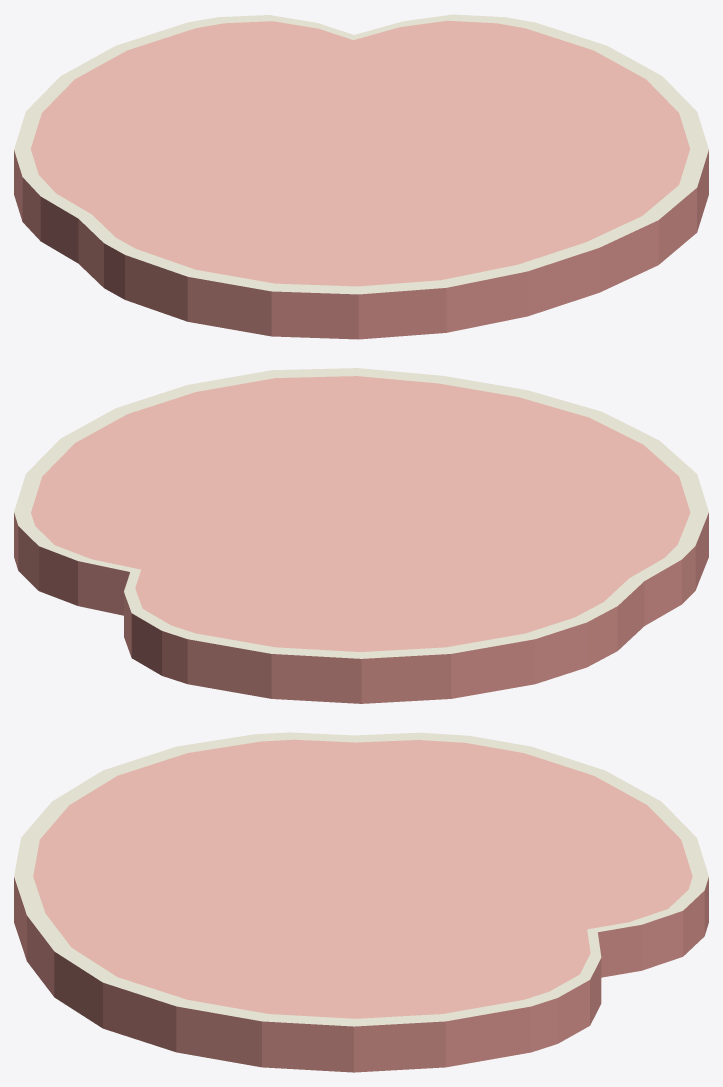
The model's file is Ham.fbx.
3 renders of one model, top to bottom at view 1: azimuth 30°, elevation 25°; view 2: azimuth 150°, elevation 25°; view 3: azimuth 270°, elevation 25°, orthographic. The views are drawn at different scales.
Visible parts, largest first — view 1: Ham; view 2: Ham; view 3: Ham.
Boxes of the visible parts, x1,y1,x2,y2 form: Ham: (14,14,708,339); Ham: (14,368,708,703); Ham: (14,732,708,1072).
Size of the model in its own units: 0.1077 by 0.00786 by 0.1076.
